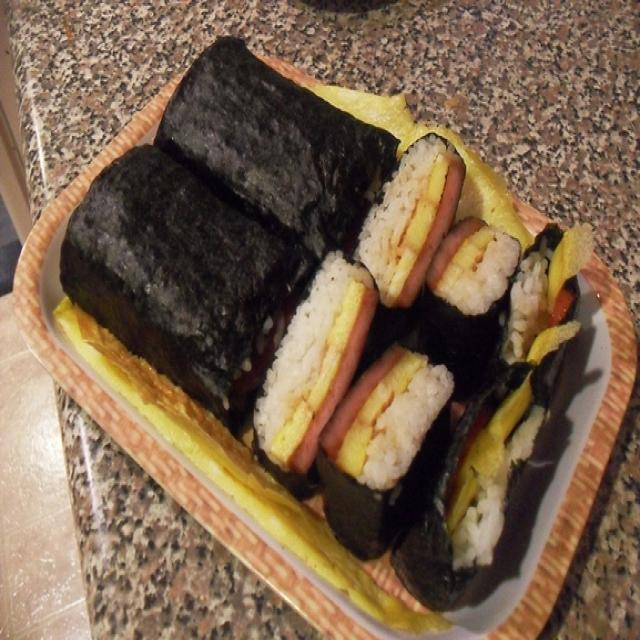寿司卷物: (21, 18, 616, 615)
